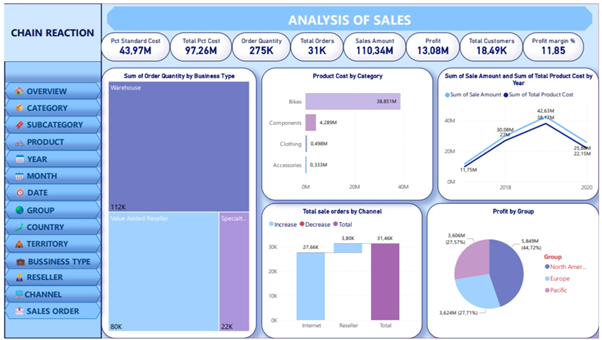

The dashboard page shown, as its layout file describes it:
{"tool":"powerbi","page":{"name":"Overview","canvas":[1280,720],"ordinal":0},"visuals":[{"type":"group","id":"g1","title":"Group 1","box":[0,0,1280.3,720.4],"z":0},{"type":"shape","box":[207.9,0,1072.4,720.2],"z":0,"group":"g1"},{"type":"shape","box":[0,0,209.9,720.4],"z":1000,"group":"g1"},{"type":"card","title":"Order Quantity","fields":{"Values":["Sum(Sales.Order Quantity)"]},"box":[490.4,62.4,126,62.4],"z":1000},{"type":"card","title":"Pct Standard Cost","fields":{"Values":["Sum(Sales.Product Standard Cost)"]},"box":[207.9,62.4,149.2,62.4],"z":2000},{"type":"card","title":"Sales Amount","fields":{"Values":["Sum(Sales.Sale Amount)"]},"box":[730,62.4,134.5,62.4],"z":3000},{"type":"card","title":"Profit","fields":{"Values":["Sales.Profit"]},"box":[864.5,62.4,116.2,62.4],"z":4000},{"type":"card","title":"Total Pct Cost","fields":{"Values":["Sum(Sales.Total Product Cost)"]},"box":[357.1,62.4,133.3,62.4],"z":5000},{"type":"treemap","fields":{"Group":["Business Type.Business Type"],"Values":["Sum(Sales.Order Quantity)"]},"box":[209.1,138.2,333.8,582.1],"z":6000},{"type":"waterfallChart","fields":{"Category":["Channel.Channel"],"Y":["Sales.Total sale orders"]},"box":[553.9,429.2,346.1,291],"z":7000},{"type":"clusteredBarChart","title":"Product Cost by Category","fields":{"Category":["Category.Category"],"Y":["Sum(Sales.Product Standard Cost)"]},"box":[553.9,138.2,369.3,284.9],"z":8000},{"type":"lineChart","fields":{"Category":["Date.Year"],"Y":["Sum(Sales.Sale Amount)","Sum(Sales.Total Product Cost)"]},"box":[933,138.2,347.3,284.9],"z":9000},{"type":"pieChart","title":"Profit by Group","fields":{"Category":["Group.Group"],"Y":["Sales.Profit"]},"box":[909.8,429.2,370.5,291],"z":10000},{"type":"card","title":"Total Orders","fields":{"Values":["Sales.Total sale orders"]},"box":[616.3,62.4,113.7,62.4],"z":11000},{"type":"card","title":"Total Customers","fields":{"Values":["Count(Customer.Customer ID)"]},"box":[980.7,62.4,135.7,62.4],"z":12000},{"type":"card","title":"Profit margin %","fields":{"Values":["Sales.Profit margin"]},"box":[1116.4,62.4,130.8,62.4],"z":13000},{"type":"shape","title":"dbdbdjb","box":[221.1,5.6,1044.4,52.2],"z":14000},{"type":"shape","box":[0,0,209.1,124.7],"z":15000},{"type":"shape","box":[0,170.1,208.6,35],"z":16000},{"type":"shape","box":[0,205,209,37],"z":17000},{"type":"shape","box":[0,242,209,37],"z":18000},{"type":"shape","box":[0,279,209,37],"z":19000},{"type":"shape","box":[1,316,208,36],"z":20000},{"type":"shape","box":[0,352,209,36],"z":21000},{"type":"shape","box":[1,388,208,36],"z":22000},{"type":"shape","box":[0,424,208,38],"z":23000},{"type":"shape","box":[0,462,209,35],"z":24000},{"type":"shape","box":[0,497,209,38],"z":25000},{"type":"shape","box":[0,535,209,35],"z":26000},{"type":"shape","box":[0,570,209,36],"z":27000},{"type":"shape","box":[0,606,209,36],"z":28000},{"type":"shape","box":[0,642,209,36],"z":29000}]}

Visuals, with their boxes on the page's 1280x720 design canvas (x1, y1, x2, y2). These are canvas units, not pixel positions in the 602x340 screenshot, which may show the page scaled, cropped or inside an application window:
"Group 1" group: [left=0, top=0, right=1280, bottom=720]
shape: [left=208, top=0, right=1280, bottom=720]
shape: [left=0, top=0, right=210, bottom=720]
"Order Quantity" card: [left=490, top=62, right=616, bottom=125]
"Pct Standard Cost" card: [left=208, top=62, right=357, bottom=125]
"Sales Amount" card: [left=730, top=62, right=864, bottom=125]
"Profit" card: [left=864, top=62, right=981, bottom=125]
"Total Pct Cost" card: [left=357, top=62, right=490, bottom=125]
treemap - Business Type.Business Type x Sum(Sales.Order Quantity): [left=209, top=138, right=543, bottom=720]
waterfallChart - Channel.Channel x Sales.Total sale orders: [left=554, top=429, right=900, bottom=720]
"Product Cost by Category" clusteredBarChart: [left=554, top=138, right=923, bottom=423]
lineChart - Date.Year x Sum(Sales.Sale Amount): [left=933, top=138, right=1280, bottom=423]
"Profit by Group" pieChart: [left=910, top=429, right=1280, bottom=720]
"Total Orders" card: [left=616, top=62, right=730, bottom=125]
"Total Customers" card: [left=981, top=62, right=1116, bottom=125]
"Profit margin %" card: [left=1116, top=62, right=1247, bottom=125]
"dbdbdjb" shape: [left=221, top=6, right=1266, bottom=58]
shape: [left=0, top=0, right=209, bottom=125]
shape: [left=0, top=170, right=209, bottom=205]
shape: [left=0, top=205, right=209, bottom=242]
shape: [left=0, top=242, right=209, bottom=279]
shape: [left=0, top=279, right=209, bottom=316]
shape: [left=1, top=316, right=209, bottom=352]
shape: [left=0, top=352, right=209, bottom=388]
shape: [left=1, top=388, right=209, bottom=424]
shape: [left=0, top=424, right=208, bottom=462]
shape: [left=0, top=462, right=209, bottom=497]
shape: [left=0, top=497, right=209, bottom=535]
shape: [left=0, top=535, right=209, bottom=570]
shape: [left=0, top=570, right=209, bottom=606]
shape: [left=0, top=606, right=209, bottom=642]
shape: [left=0, top=642, right=209, bottom=678]
